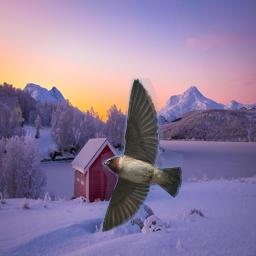Swallow: (101, 78, 183, 233)
